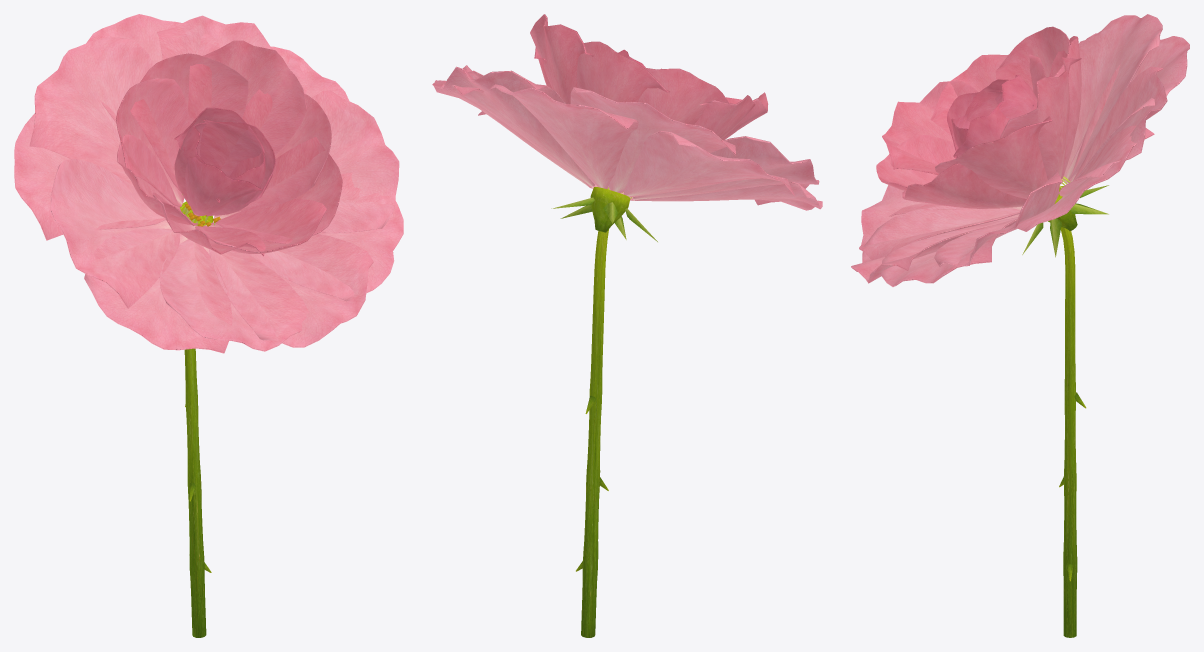
File: color_1.glb
The picture shows the model from 3 angles, left to right: view 1: azimuth 30°, elevation 25°; view 2: azimuth 150°, elevation 25°; view 3: azimuth 270°, elevation 25°; orthographic projection.
Parts seen in each view (by area): view 1: Petal_1_outer_03, Petal_3_outer_04, Petal_5_outer_04, Petal_6_outer_02, Petal_4_outer_01, Petal_8_outer_02, Petal_15_middle_03, Petal_7_outer_03, Petal_17_middle_01, Petal_16_middle_04, Stem_Skinned, Petal_14_middle_04 (+13 smaller); view 2: Petal_0_outer_01, Stem_Skinned, Petal_2_outer_01, Petal_10_outer_02, Petal_1_outer_03, Petal_16_middle_04, Petal_3_outer_04, Petal_17_middle_01, Petal_15_middle_03, Petal_4_outer_01, Hypanthium_and_five_sepals, Petal_18_middle_02 (+2 smaller); view 3: Petal_1_outer_03, Stem_Skinned, Petal_14_middle_04, Petal_6_outer_02, Petal_10_outer_02, Petal_15_middle_03, Petal_11_middle_03, Petal_13_middle_02, Petal_7_outer_03, Petal_0_outer_01, Petal_8_outer_02, Petal_5_outer_04 (+10 smaller).
Boxes of the visible parts, x1,y1,x2,y2 form: Petal_1_outer_03: [29, 37, 154, 186]; Petal_3_outer_04: [50, 159, 179, 308]; Petal_5_outer_04: [159, 239, 309, 351]; Petal_6_outer_02: [209, 234, 373, 347]; Petal_4_outer_01: [84, 228, 232, 353]; Petal_8_outer_02: [312, 90, 399, 233]; Petal_15_middle_03: [188, 40, 306, 155]; Petal_7_outer_03: [246, 172, 403, 301]; Petal_17_middle_01: [115, 78, 188, 206]; Petal_16_middle_04: [130, 53, 248, 191]; Stem_Skinned: [184, 212, 211, 637]; Petal_14_middle_04: [237, 89, 331, 211]; Petal_0_outer_01: [489, 84, 638, 188]; Stem_Skinned: [576, 229, 608, 637]; Petal_2_outer_01: [624, 130, 794, 197]; Petal_10_outer_02: [441, 66, 594, 186]; Petal_1_outer_03: [570, 87, 735, 193]; Petal_16_middle_04: [576, 41, 669, 102]; Petal_3_outer_04: [633, 136, 819, 200]; Petal_17_middle_01: [638, 67, 728, 124]; Petal_15_middle_03: [530, 14, 593, 104]; Petal_4_outer_01: [632, 182, 822, 210]; Hypanthium_and_five_sepals: [551, 187, 657, 241]; Petal_18_middle_02: [694, 95, 755, 138]; Petal_1_outer_03: [1063, 14, 1162, 182]; Stem_Skinned: [1059, 227, 1086, 637]; Petal_14_middle_04: [935, 116, 1051, 198]; Petal_6_outer_02: [851, 206, 1020, 283]; Petal_10_outer_02: [1059, 66, 1167, 196]; Petal_15_middle_03: [1000, 57, 1081, 184]; Petal_11_middle_03: [882, 80, 978, 174]; Petal_13_middle_02: [902, 163, 1026, 208]; Petal_7_outer_03: [881, 217, 1018, 286]; Petal_0_outer_01: [1070, 36, 1189, 181]; Petal_8_outer_02: [934, 170, 1062, 266]; Petal_5_outer_04: [859, 185, 1021, 260].
Bounding box in the file's own units: 0.1988 × 0.3289 × 0.1713.
Materials: 7 (7 with a texture image).
